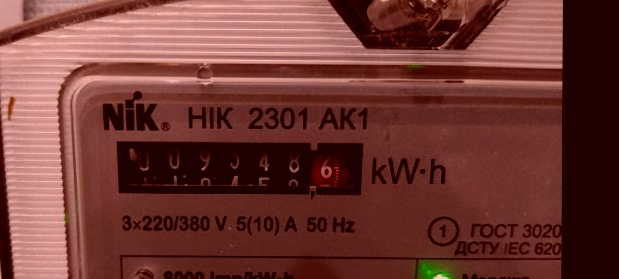0: (135, 146, 151, 172), (166, 143, 181, 169)
3: (227, 145, 241, 170)
4: (254, 143, 273, 173)
6: (317, 151, 334, 180)
8: (286, 146, 301, 174)
9: (197, 147, 211, 174)
screen: (98, 126, 377, 206)
